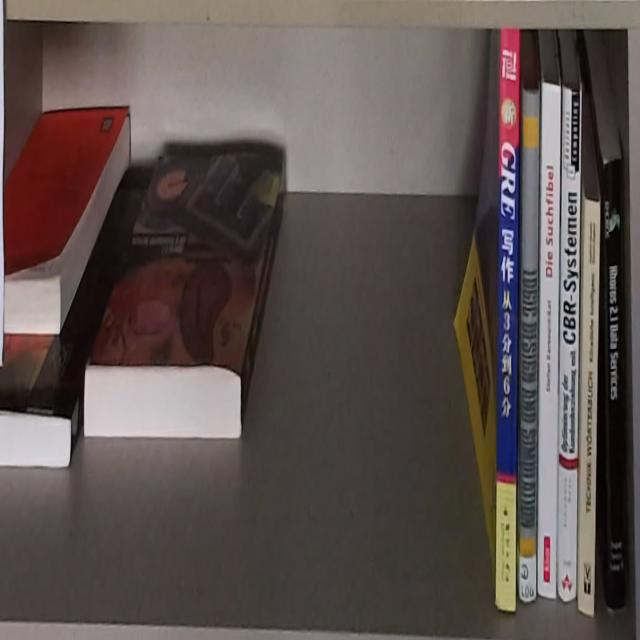Book Spine: (494, 25, 521, 617), (559, 83, 583, 605), (600, 149, 627, 608), (539, 81, 559, 604), (520, 85, 538, 606), (579, 192, 601, 618)
